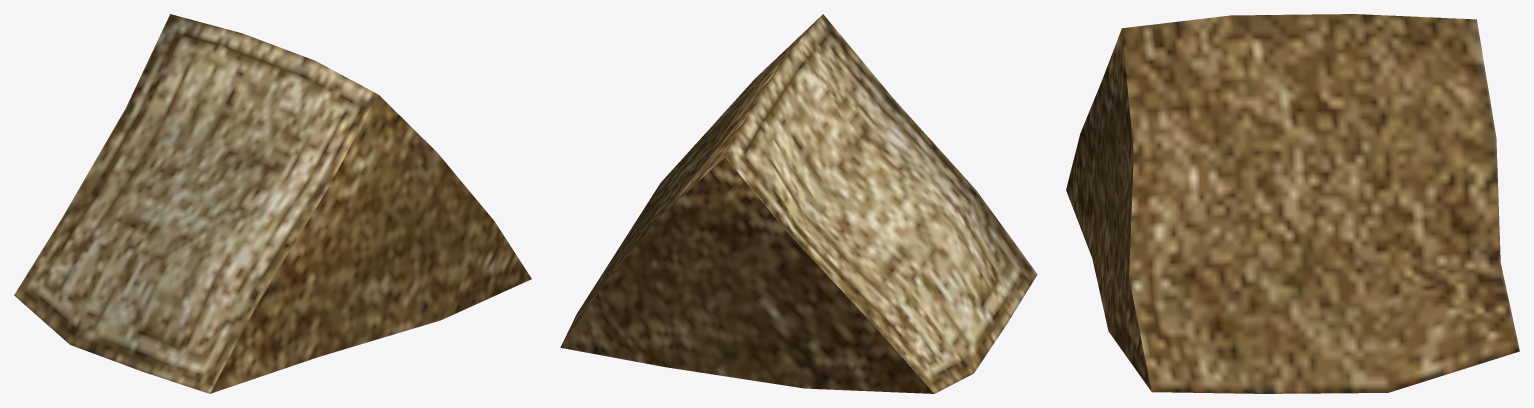
The model's file is ob-bigstone02.glb.
The picture shows the model from 3 angles, left to right: view 1: azimuth 30°, elevation 25°; view 2: azimuth 150°, elevation 25°; view 3: azimuth 270°, elevation 25°; orthographic projection. The views are drawn at different scales.
Visible parts, largest first — view 1: Box01; view 2: Box01; view 3: Box01.
Boxes of the visible parts, x1,y1,x2,y2 form: Box01: (14,14,531,393); Box01: (560,14,1037,393); Box01: (1066,14,1519,393).
Bounding box in the file's own units: 4.5 × 2.7 × 3.79.
1 material, 1 textured.
